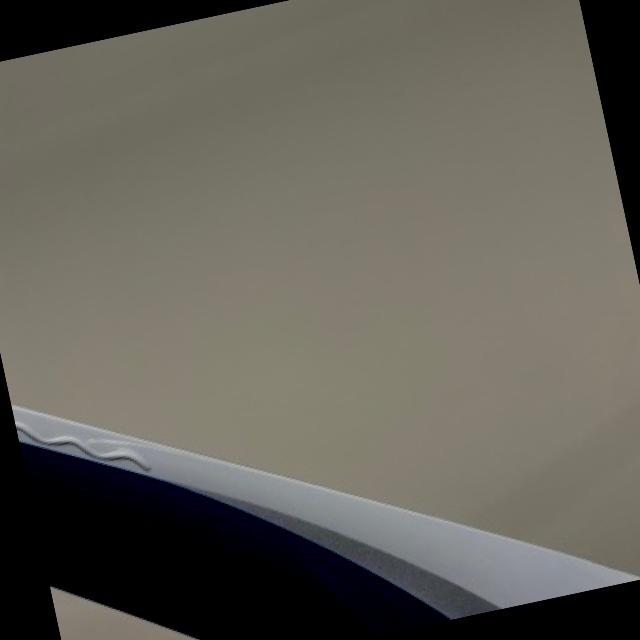healthy: (13, 403, 640, 640)
